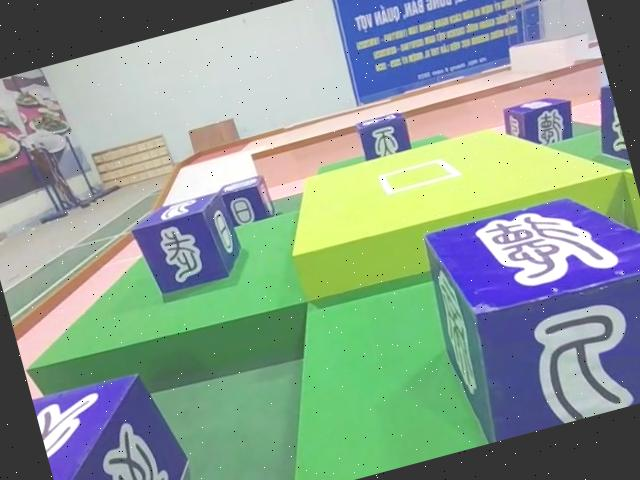R2 Fake Blue: (413, 170, 640, 447), (30, 358, 206, 480), (125, 190, 246, 300), (499, 88, 581, 153), (587, 84, 633, 176), (215, 171, 279, 228), (352, 109, 413, 164)
